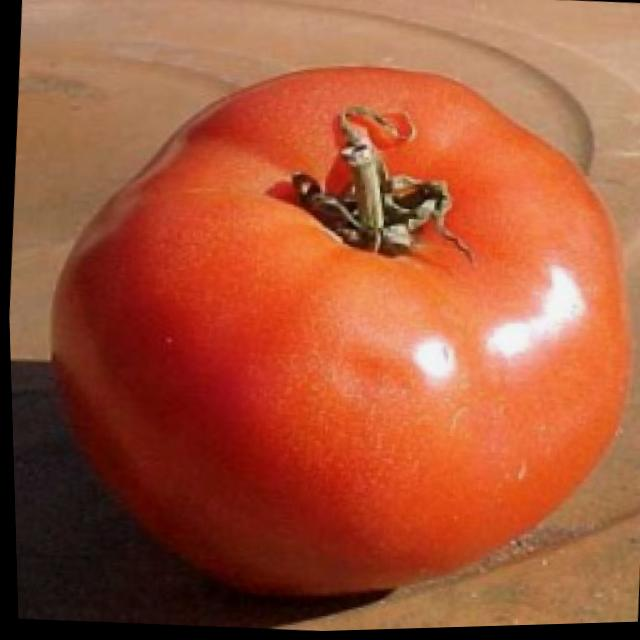tomato: (24, 44, 640, 629)
